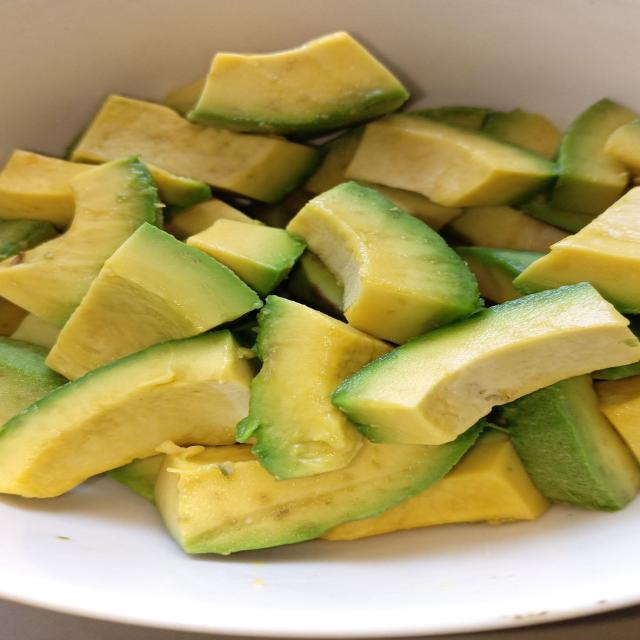avocado: (333, 283, 639, 444), (155, 423, 483, 554), (0, 332, 253, 497), (47, 224, 261, 379), (287, 183, 479, 343), (237, 296, 390, 479), (0, 157, 161, 326), (72, 96, 317, 201), (322, 429, 549, 540), (188, 32, 408, 136), (499, 375, 639, 510), (347, 115, 554, 206), (514, 188, 639, 313), (549, 99, 636, 215), (186, 219, 306, 296), (0, 150, 93, 226), (0, 150, 88, 226), (0, 337, 66, 424), (444, 206, 567, 252), (358, 181, 463, 231), (358, 181, 462, 230), (455, 247, 543, 303), (304, 127, 363, 194), (482, 109, 561, 159), (165, 198, 259, 240), (287, 251, 344, 318), (594, 376, 639, 460), (520, 194, 593, 232), (107, 454, 163, 500), (0, 220, 57, 260), (406, 106, 492, 130), (605, 120, 639, 176), (12, 314, 59, 351), (165, 79, 206, 116), (0, 297, 28, 336), (593, 357, 639, 380)
